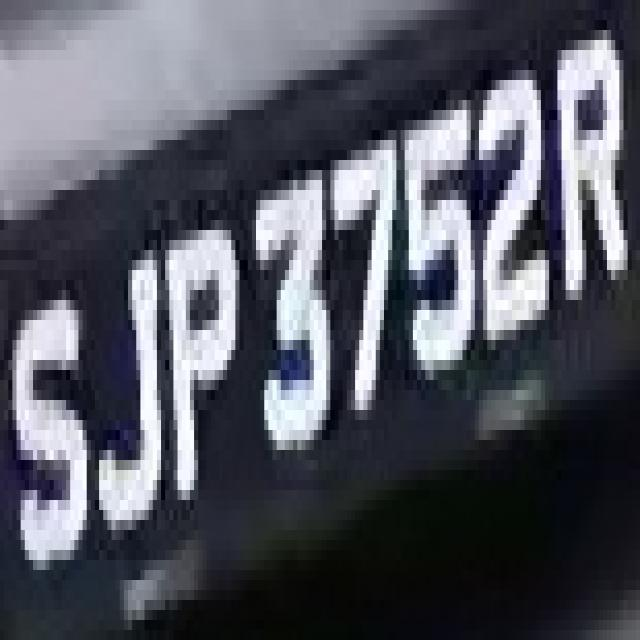2: (483, 70, 558, 360)
3: (248, 160, 334, 460)
5: (401, 90, 487, 390)
7: (318, 130, 413, 420)
J: (83, 220, 169, 520)
P: (157, 210, 239, 510)
S: (8, 260, 95, 620)
